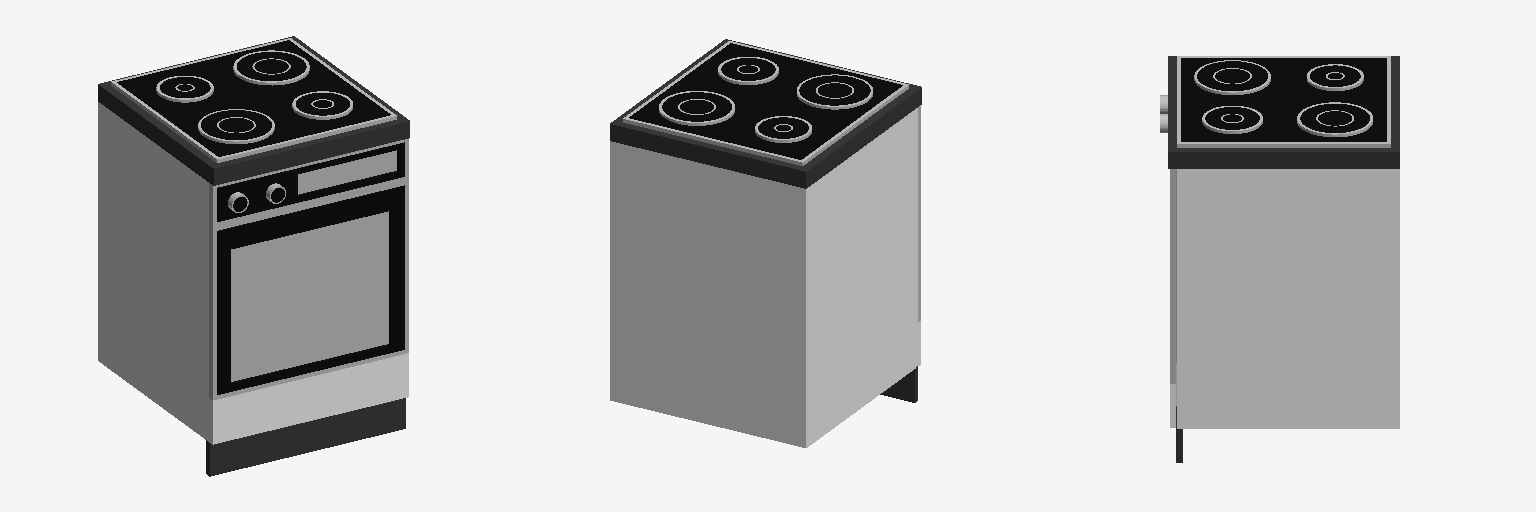
The model's file is uploads_files_2957448_KitchenOven.obj.
3 views of the same model, side by side, from view 1: azimuth 30°, elevation 25°; view 2: azimuth 150°, elevation 25°; view 3: azimuth 270°, elevation 25° (orthographic).
Parts seen in each view (by area): view 1: Oven_door_Cabinet1_Door.002, Cabinet1, Counter_Plane, Bottom_of_oven_Cabinet1_Door, Oven_controls_Cabinet1_Door.001, Counter.001_Plane.001, Baseboard1, Oven_controls.001_Cabinet1_Door.003; view 2: Cabinet1, Counter_Plane, Counter.001_Plane.001, Baseboard1; view 3: Cabinet1, Counter_Plane, Counter.001_Plane.001, Oven_door_Cabinet1_Door.002.
Boxes of the visible parts, x1,y1,x2,y2 form: Oven_door_Cabinet1_Door.002: [209, 180, 408, 400]; Cabinet1: [98, 102, 208, 441]; Counter_Plane: [98, 36, 409, 185]; Bottom_of_oven_Cabinet1_Door: [209, 353, 408, 444]; Oven_controls_Cabinet1_Door.001: [209, 139, 408, 227]; Counter.001_Plane.001: [156, 50, 352, 143]; Baseboard1: [206, 398, 405, 476]; Oven_controls.001_Cabinet1_Door.003: [228, 183, 285, 212]; Cabinet1: [610, 108, 917, 447]; Counter_Plane: [610, 39, 921, 188]; Counter.001_Plane.001: [659, 57, 872, 142]; Baseboard1: [880, 366, 917, 402]; Cabinet1: [1177, 169, 1399, 428]; Counter_Plane: [1168, 56, 1399, 168]; Counter.001_Plane.001: [1194, 60, 1372, 136]; Oven_door_Cabinet1_Door.002: [1170, 190, 1176, 383].
Size of the model in its own units: 0.6007 by 0.9259 by 0.6346.